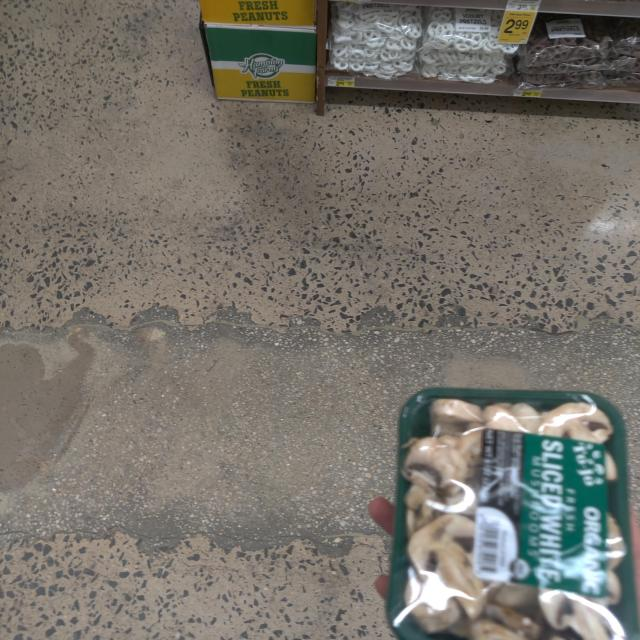Mushrooms: (398, 394, 640, 640)
